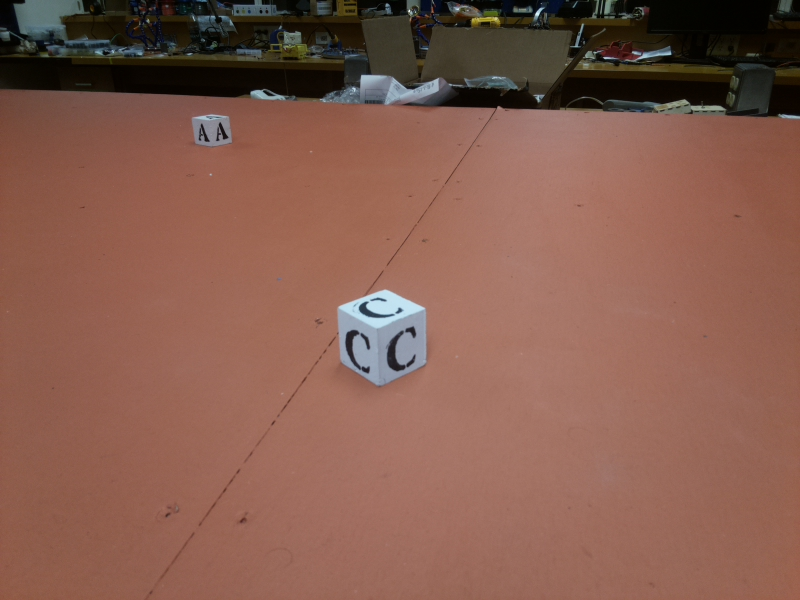blockA: (191, 114, 235, 149)
blockC: (333, 288, 434, 388)
